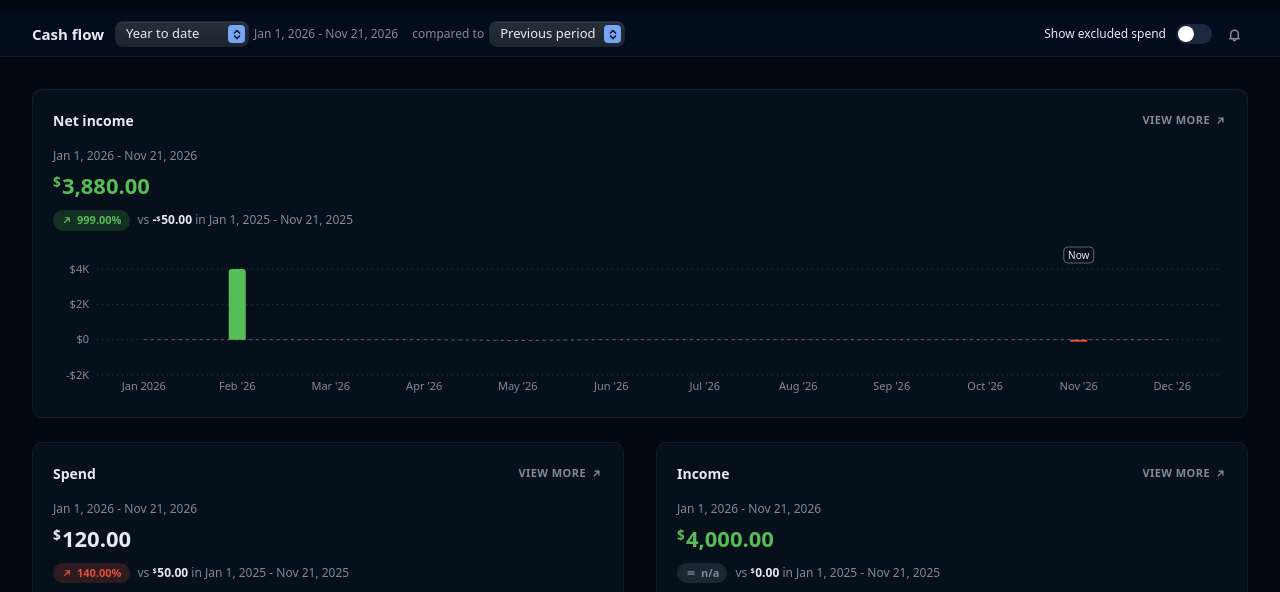
Test: CashflowPage › switches the period
The image size is (1280, 592).
expect the element "Net income" is shown: met, box top-left (32, 89), bottom-right (1248, 418)
Select "This month" in the dropdown named "Period". click: point(182, 34)
box: top-left (116, 22), bottom-right (248, 46)
(page scrolled)
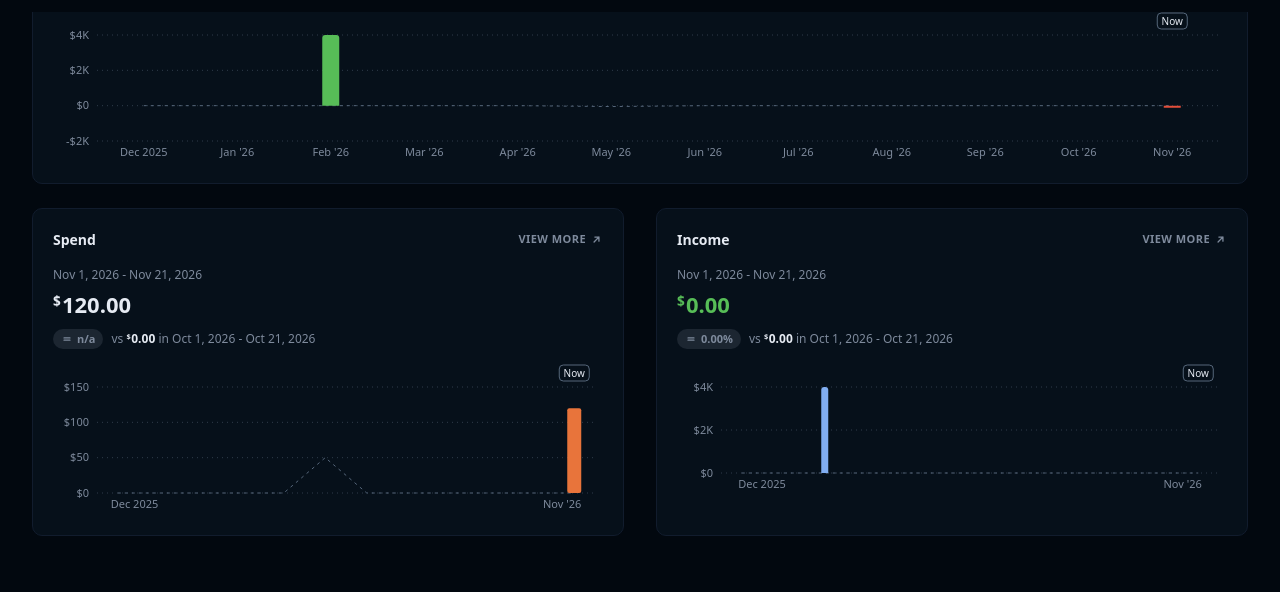
expect the element "Income" shows "Nov 1, 2026 - Nov 21, 2026": met, box top-left (677, 266), bottom-right (826, 282)
